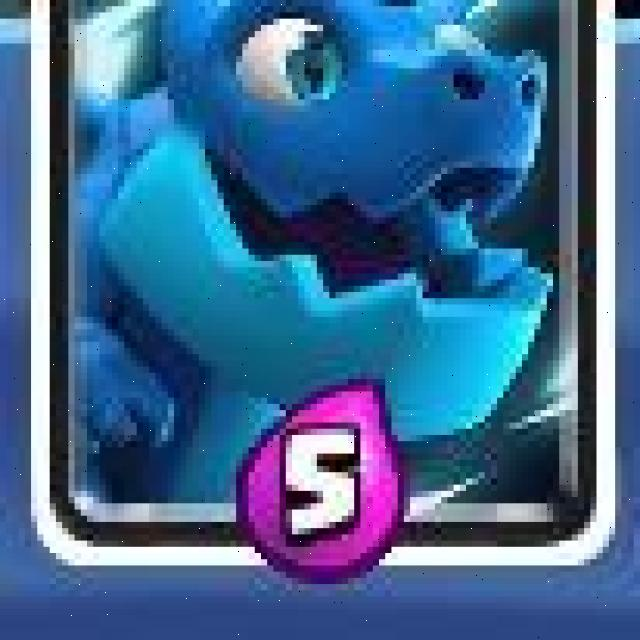Electro_Dragon: (29, 0, 620, 576)
